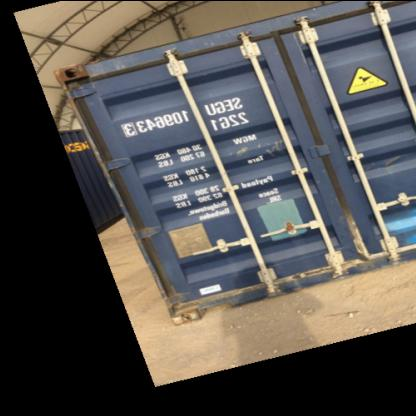Damage: (335, 195, 385, 272), (180, 282, 262, 315), (272, 257, 330, 291)
